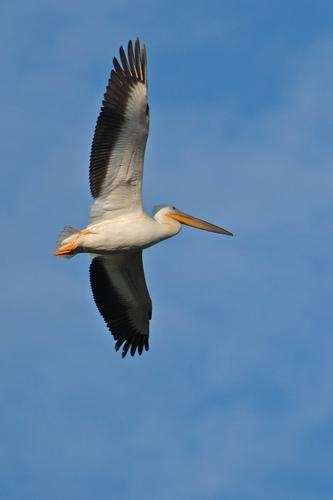bird: (55, 39, 232, 357)
